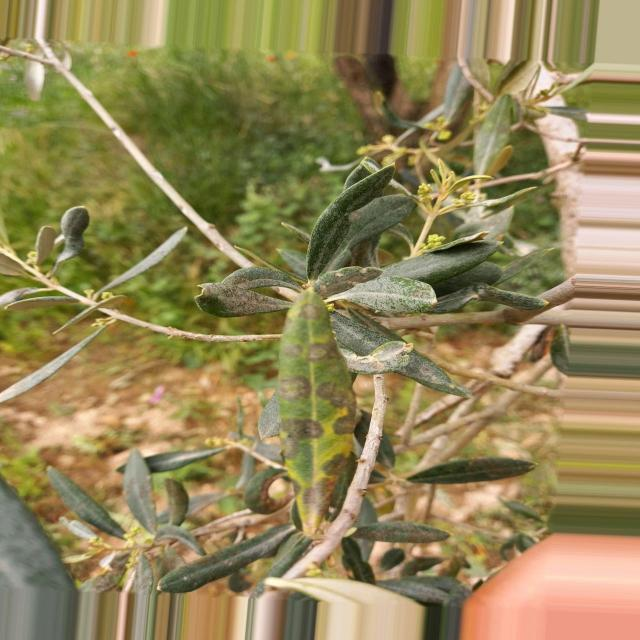OlivePeacockSpot: (276, 290, 356, 538)
